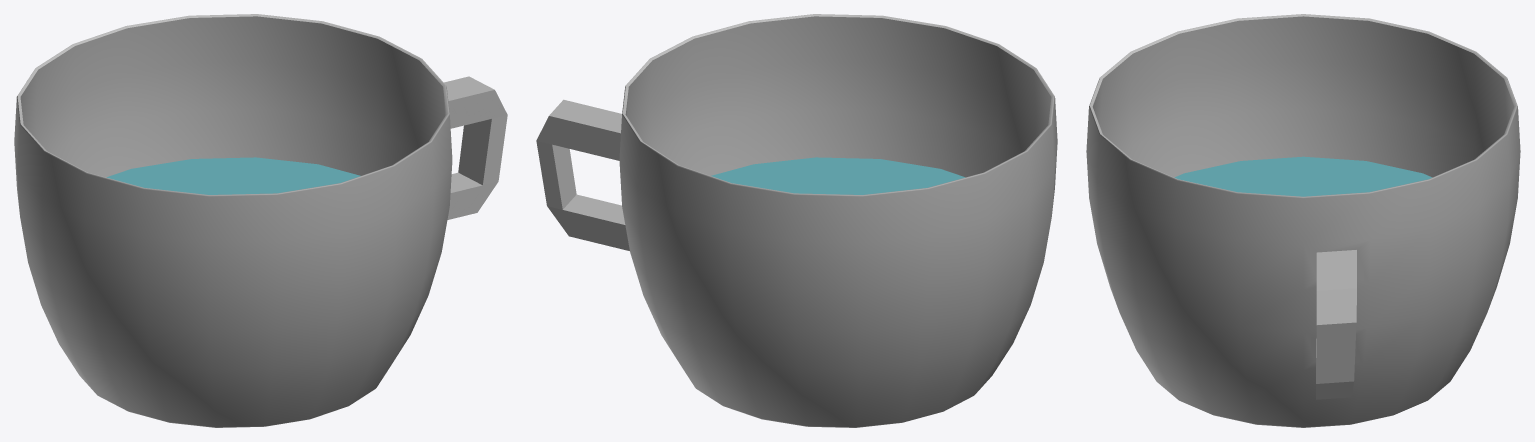
Rendered from mug.fbx.
The picture shows the model from 3 angles, left to right: view 1: azimuth 30°, elevation 25°; view 2: azimuth 150°, elevation 25°; view 3: azimuth 270°, elevation 25°; orthographic projection.
Parts seen in each view (by area): view 1: pSphere2; view 2: pSphere2; view 3: pSphere2.
Boxes of the visible parts, x1,y1,x2,y2 form: pSphere2: [14, 14, 507, 427]; pSphere2: [536, 14, 1057, 427]; pSphere2: [1086, 14, 1520, 427].
Size of the model in its own units: 11.13 by 5.82 by 8.9.
